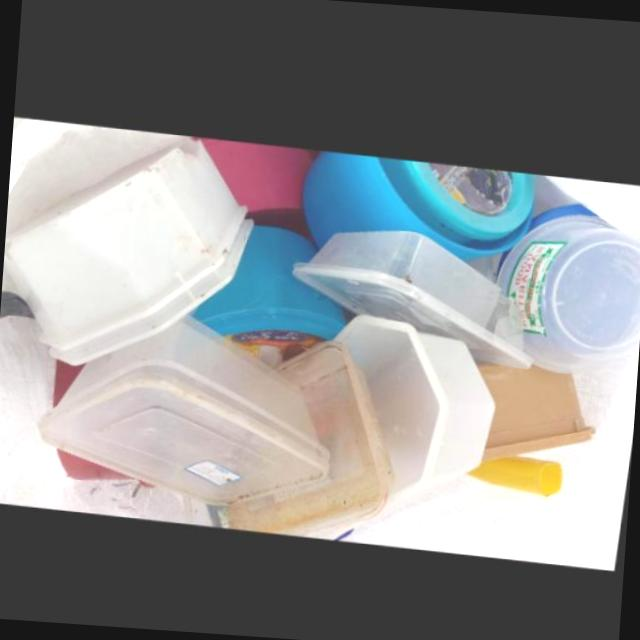hop_nhua: (4, 136, 257, 365), (41, 314, 335, 501), (226, 338, 399, 535), (295, 227, 536, 365), (336, 311, 498, 504), (302, 149, 538, 260), (191, 223, 359, 366), (497, 203, 640, 365), (199, 136, 319, 234), (481, 360, 595, 456)
